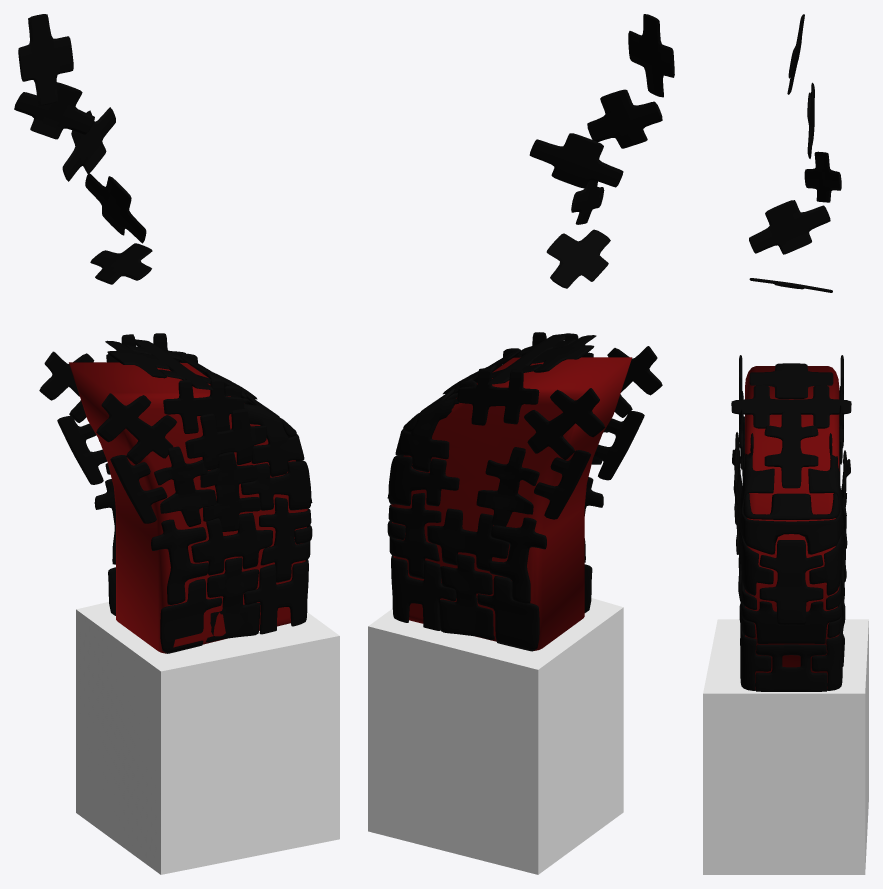
Rendered from 5-Raskol-Globalizacii.FBX.
3 renders of one model, left to right at view 1: azimuth 30°, elevation 25°; view 2: azimuth 150°, elevation 25°; view 3: azimuth 270°, elevation 25°, orthographic. The views are drawn at different scales.
Parts seen in each view (by area): view 1: 5-Raskol-Globalizacii-Cube, 5-Raskol-Globalizacii-Elements, 5-Raskol-Globalizacii-Red-Body, 5-Raskol-Globalizacii-Element-00, 5-Raskol-Globalizacii-Element-05, 5-Raskol-Globalizacii-Element-14, 5-Raskol-Globalizacii-Element-15, 5-Raskol-Globalizacii-Element-13, 5-Raskol-Globalizacii-Element-01, 5-Raskol-Globalizacii-Element-10, 5-Raskol-Globalizacii-Element-03, 5-Raskol-Globalizacii-Element-02 (+6 smaller); view 2: 5-Raskol-Globalizacii-Cube, 5-Raskol-Globalizacii-Elements, 5-Raskol-Globalizacii-Red-Body, 5-Raskol-Globalizacii-Element-02, 5-Raskol-Globalizacii-Element-06, 5-Raskol-Globalizacii-Element-01, 5-Raskol-Globalizacii-Element-09, 5-Raskol-Globalizacii-Element-16, 5-Raskol-Globalizacii-Element-04, 5-Raskol-Globalizacii-Element-00, 5-Raskol-Globalizacii-Element-12, 5-Raskol-Globalizacii-Element-11 (+4 smaller); view 3: 5-Raskol-Globalizacii-Cube, 5-Raskol-Globalizacii-Elements, 5-Raskol-Globalizacii-Red-Body, 5-Raskol-Globalizacii-Element-08, 5-Raskol-Globalizacii-Element-03, 5-Raskol-Globalizacii-Element-17, 5-Raskol-Globalizacii-Element-07, 5-Raskol-Globalizacii-Element-02, 5-Raskol-Globalizacii-Element-00, 5-Raskol-Globalizacii-Element-01, 5-Raskol-Globalizacii-Element-16, 5-Raskol-Globalizacii-Element-14 (+1 smaller).
Part boxes in pixels (x1=…): 5-Raskol-Globalizacii-Cube: x1=76, y1=602, x2=339, y2=874; 5-Raskol-Globalizacii-Elements: x1=94, y1=353, x2=312, y2=653; 5-Raskol-Globalizacii-Red-Body: x1=69, y1=362, x2=307, y2=653; 5-Raskol-Globalizacii-Element-00: x1=18, y1=14, x2=73, y2=105; 5-Raskol-Globalizacii-Element-05: x1=96, y1=393, x2=176, y2=464; 5-Raskol-Globalizacii-Element-14: x1=185, y1=408, x2=266, y2=470; 5-Raskol-Globalizacii-Element-15: x1=200, y1=452, x2=260, y2=531; 5-Raskol-Globalizacii-Element-13: x1=154, y1=446, x2=216, y2=526; 5-Raskol-Globalizacii-Element-01: x1=14, y1=82, x2=94, y2=139; 5-Raskol-Globalizacii-Element-10: x1=163, y1=378, x2=244, y2=433; 5-Raskol-Globalizacii-Element-03: x1=85, y1=173, x2=146, y2=243; 5-Raskol-Globalizacii-Element-02: x1=62, y1=107, x2=115, y2=181; 5-Raskol-Globalizacii-Cube: x1=368, y1=598, x2=623, y2=874; 5-Raskol-Globalizacii-Elements: x1=387, y1=348, x2=603, y2=651; 5-Raskol-Globalizacii-Red-Body: x1=391, y1=357, x2=632, y2=650; 5-Raskol-Globalizacii-Element-02: x1=529, y1=133, x2=623, y2=188; 5-Raskol-Globalizacii-Element-06: x1=524, y1=388, x2=605, y2=459; 5-Raskol-Globalizacii-Element-01: x1=587, y1=89, x2=662, y2=148; 5-Raskol-Globalizacii-Element-09: x1=457, y1=368, x2=539, y2=425; 5-Raskol-Globalizacii-Element-16: x1=476, y1=447, x2=539, y2=526; 5-Raskol-Globalizacii-Element-04: x1=546, y1=229, x2=610, y2=288; 5-Raskol-Globalizacii-Element-00: x1=628, y1=14, x2=674, y2=97; 5-Raskol-Globalizacii-Element-12: x1=534, y1=450, x2=590, y2=519; 5-Raskol-Globalizacii-Element-11: x1=594, y1=411, x2=644, y2=480; 5-Raskol-Globalizacii-Cube: x1=703, y1=619, x2=868, y2=874; 5-Raskol-Globalizacii-Elements: x1=738, y1=433, x2=847, y2=691; 5-Raskol-Globalizacii-Red-Body: x1=745, y1=366, x2=839, y2=689; 5-Raskol-Globalizacii-Element-08: x1=731, y1=385, x2=851, y2=428; 5-Raskol-Globalizacii-Element-03: x1=749, y1=200, x2=830, y2=254; 5-Raskol-Globalizacii-Element-17: x1=764, y1=411, x2=818, y2=488; 5-Raskol-Globalizacii-Element-07: x1=749, y1=363, x2=833, y2=398; 5-Raskol-Globalizacii-Element-02: x1=804, y1=151, x2=841, y2=202; 5-Raskol-Globalizacii-Element-00: x1=787, y1=14, x2=804, y2=94; 5-Raskol-Globalizacii-Element-01: x1=807, y1=82, x2=814, y2=158; 5-Raskol-Globalizacii-Element-16: x1=841, y1=450, x2=850, y2=537; 5-Raskol-Globalizacii-Element-14: x1=733, y1=432, x2=740, y2=505.
Size of the model in its own units: 329 by 957 by 191.
